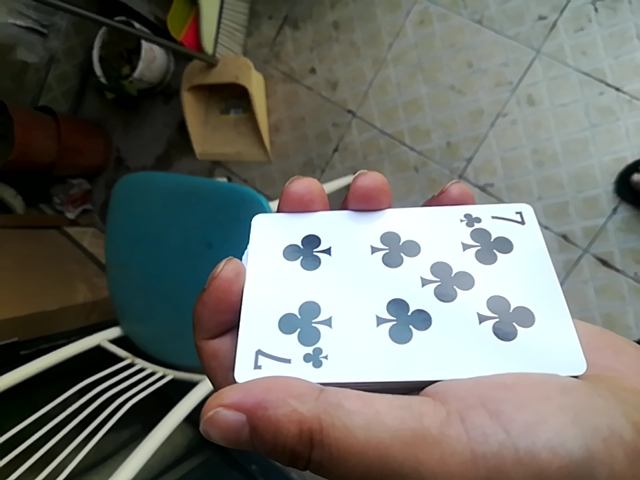mh 7: (225, 196, 595, 379)
